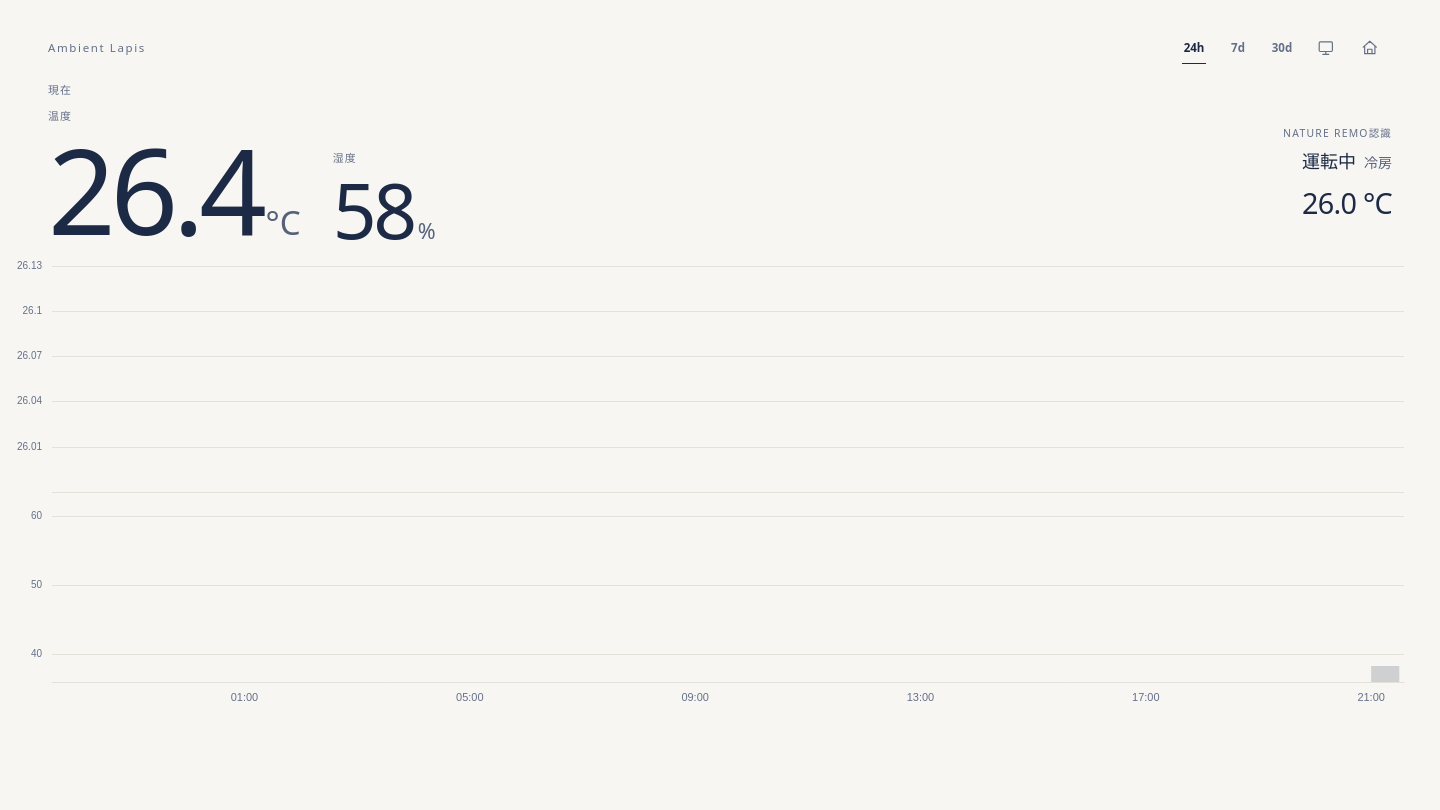
Simple › selects a theme with   and returns focus
Click the button with test id "simple-theme-trigger".
click(1326, 48)  # box [1304,26,1348,70]
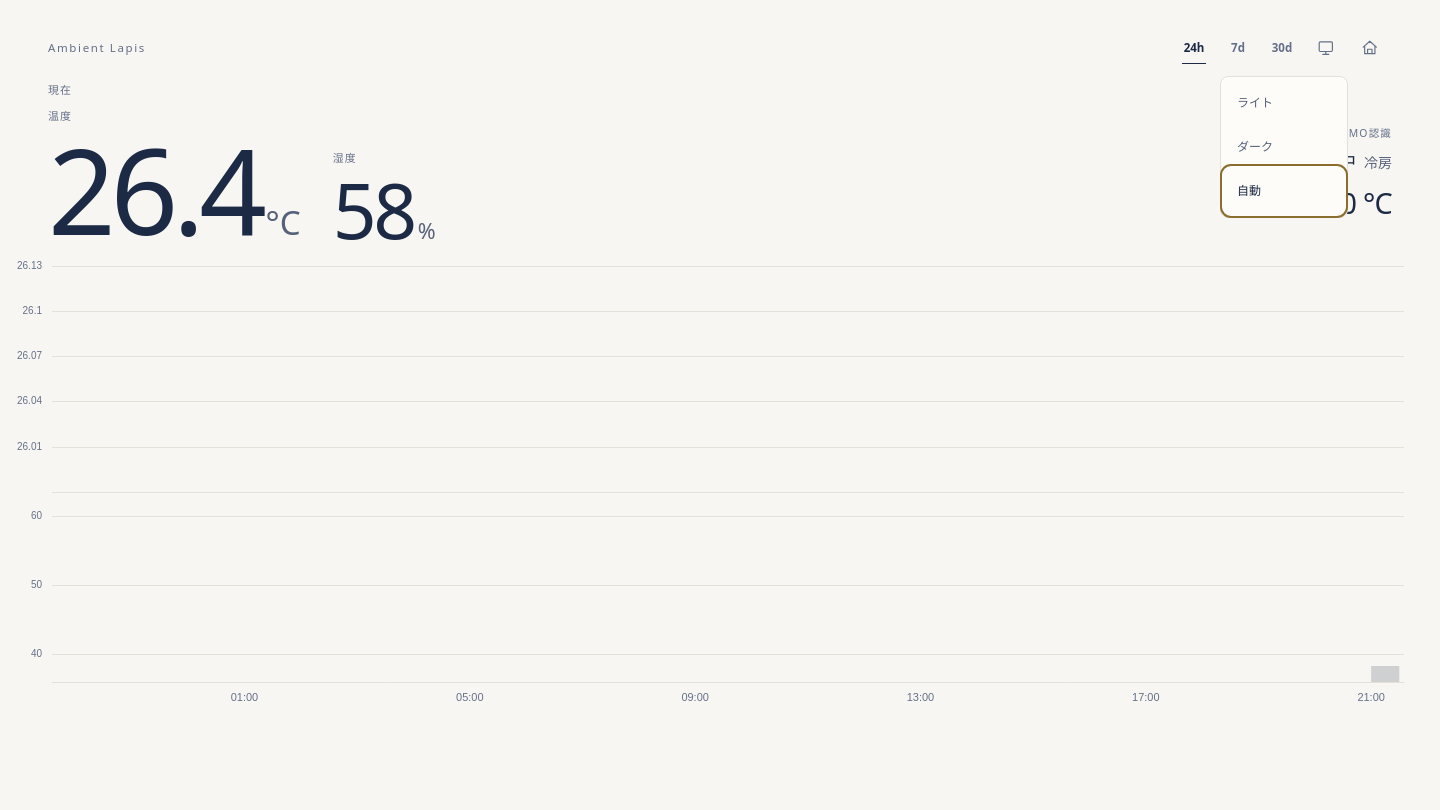
Press Space in the menu item "ライト", box [1225,81,1343,125]
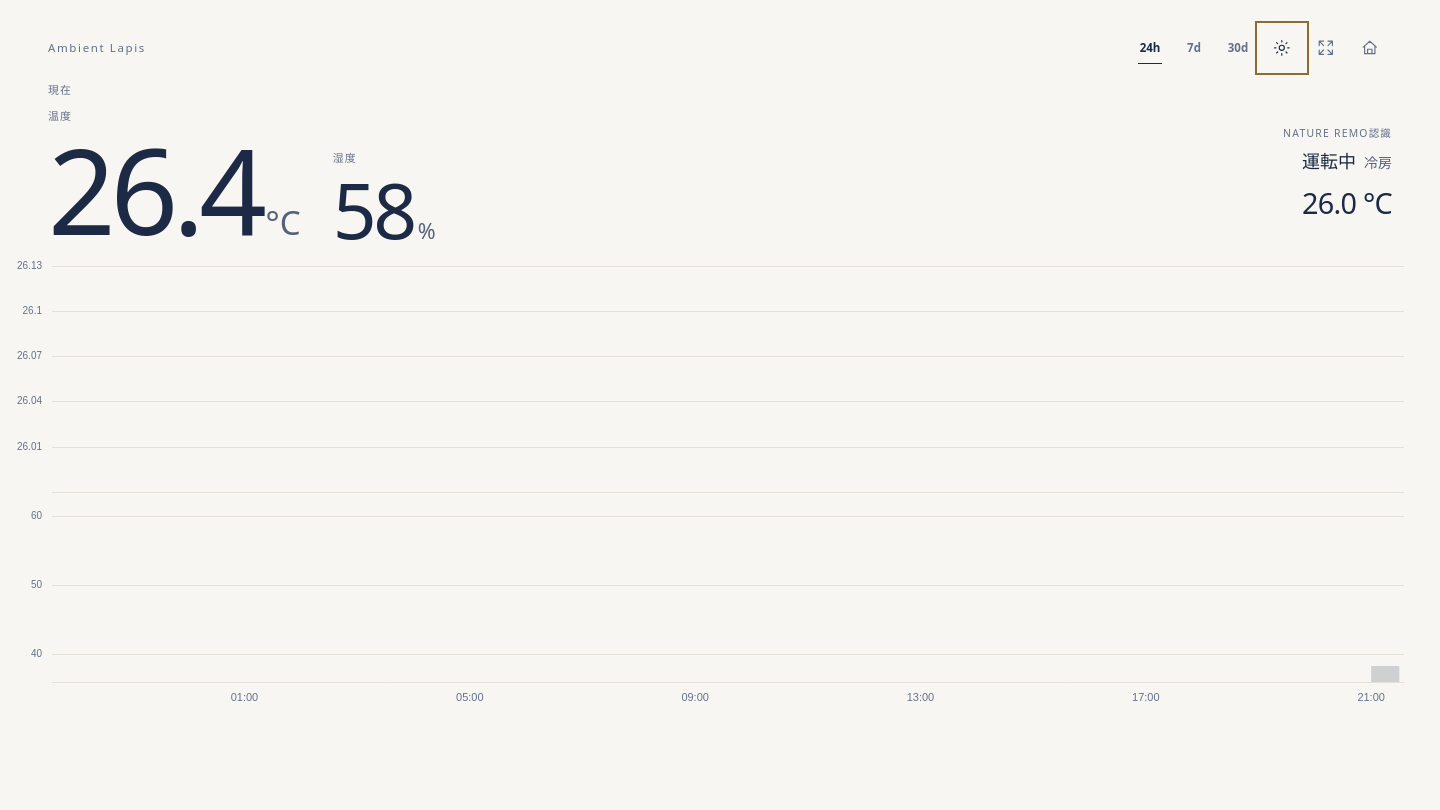
Expected: the menu with test id "simple-theme-menu" is gone
